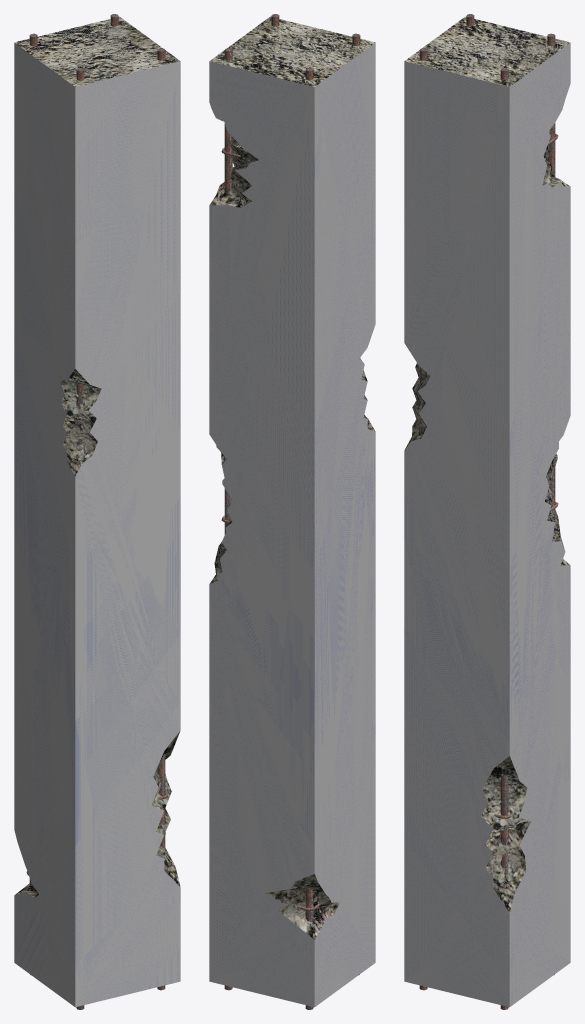
3 renders of one model, left to right at view 1: azimuth 30°, elevation 25°; view 2: azimuth 150°, elevation 25°; view 3: azimuth 330°, elevation 25°, orthographic.
Visible parts, largest first — view 1: C-600sqr (×4), Rebar01; view 2: C-600sqr (×4), Rebar01 (×2); view 3: C-600sqr (×5), Rebar01 (×2).
Part boxes in pixels (x1,y1,x2,y2): C-600sqr (×4): [14, 16, 180, 1007]; Rebar01: [157, 48, 165, 990]; C-600sqr (×4): [209, 16, 375, 1007]; Rebar01 (×2): [224, 48, 313, 1009]; C-600sqr (×5): [404, 16, 570, 1007]; Rebar01 (×2): [500, 33, 555, 1009].
Size of the model in its own units: 23.62 by 23.62 by 201.
